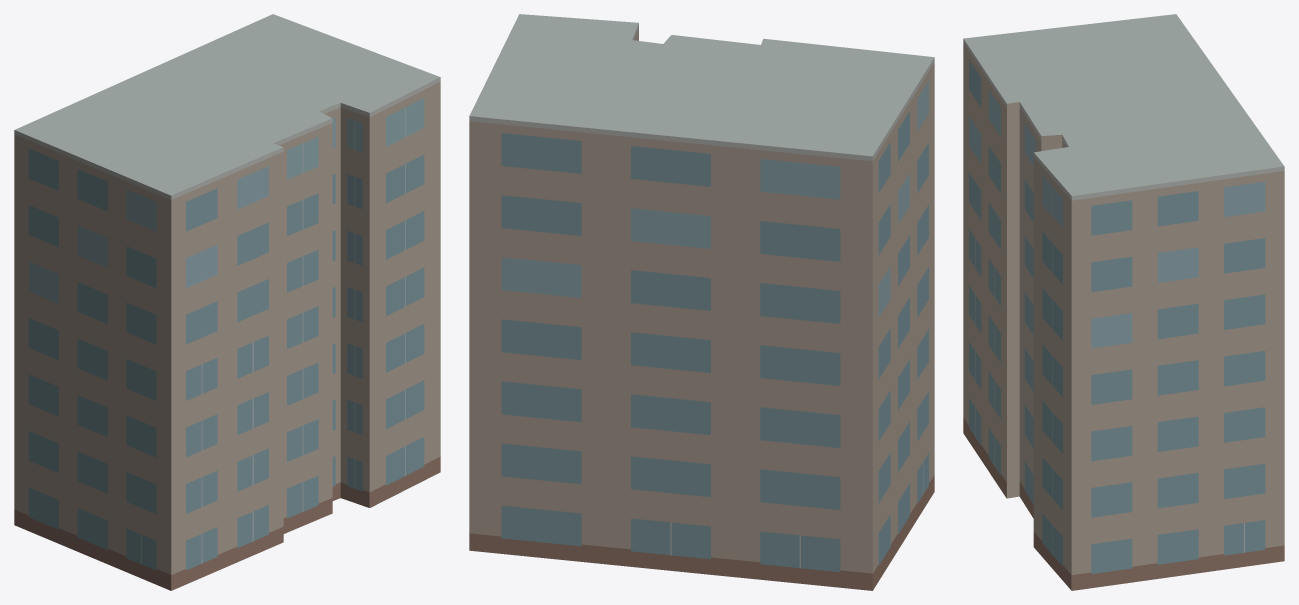
The model's file is survey-upis-32584720.glb.
3 renders of one model, left to right at view 1: azimuth 30°, elevation 25°; view 2: azimuth 150°, elevation 25°; view 3: azimuth 270°, elevation 25°, orthographic. The views are drawn at different scales.
Visible parts, largest first — view 1: survey-upis-32584720.tmp; view 2: survey-upis-32584720.tmp; view 3: survey-upis-32584720.tmp.
Boxes of the visible parts, x1=… form: survey-upis-32584720.tmp: x1=14, y1=14, x2=440, y2=590; survey-upis-32584720.tmp: x1=469, y1=14, x2=934, y2=590; survey-upis-32584720.tmp: x1=963, y1=14, x2=1284, y2=590.
Bounding box in the file's own units: 21.14 × 21.35 × 15.75.
